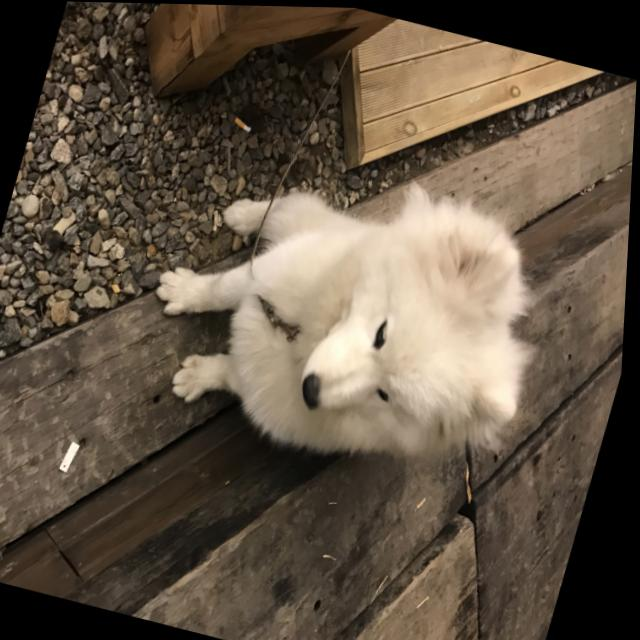dog-samoyed: (289, 174, 566, 462)
